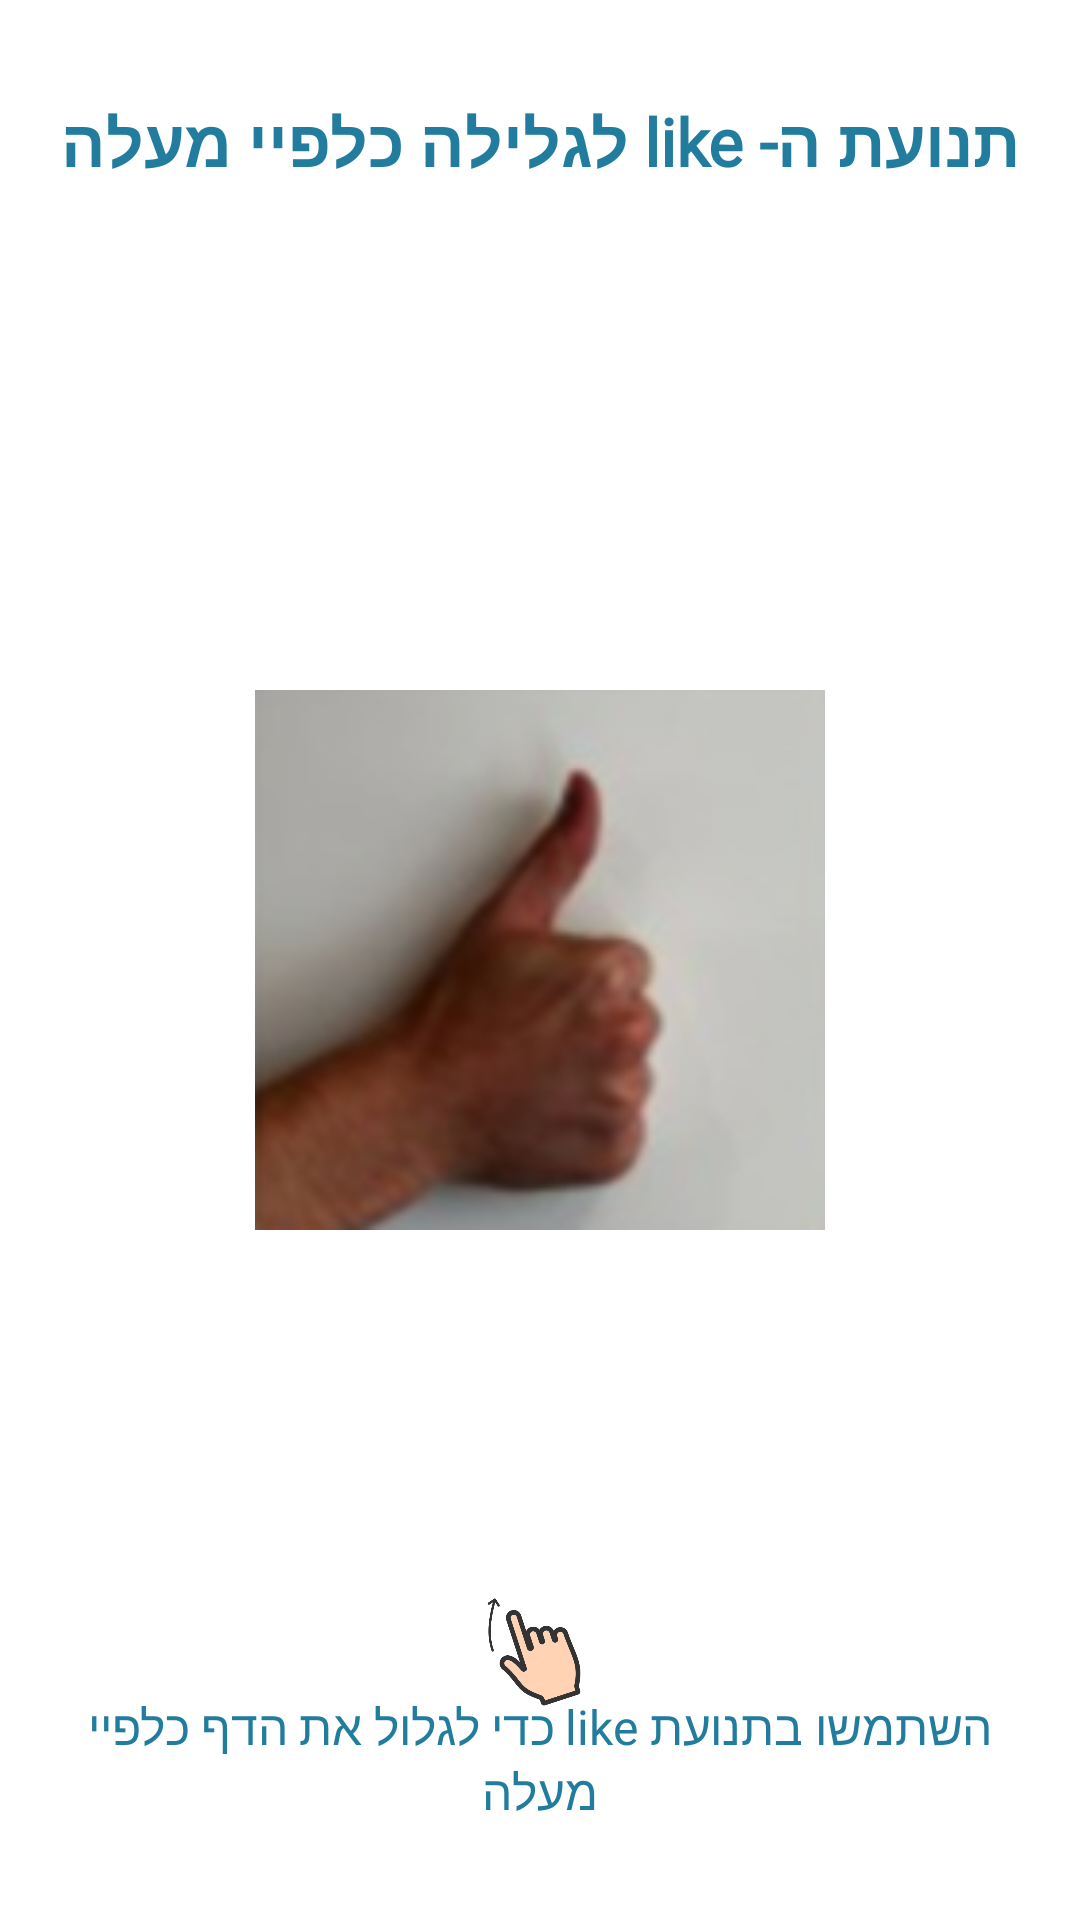

Locate icon controls on the screen. Image size 1080px x 1920px, boxes as (x1, y1, x2, y2).
hand: (488, 1598, 586, 1728)
